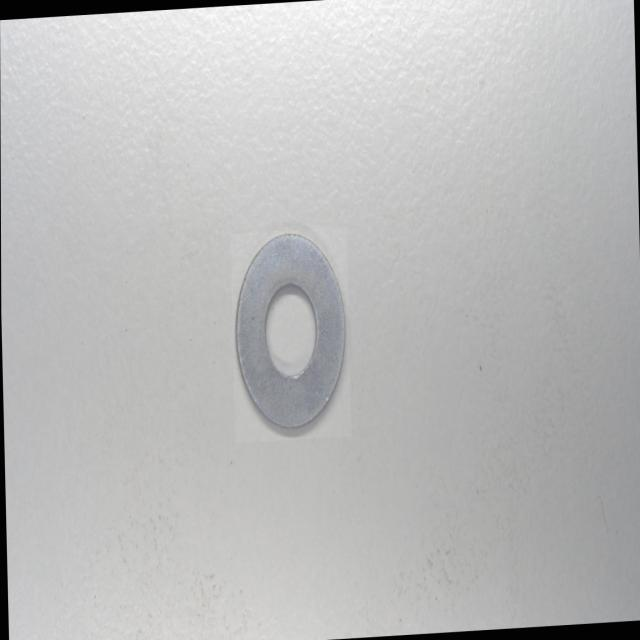washer: (232, 230, 348, 439)
